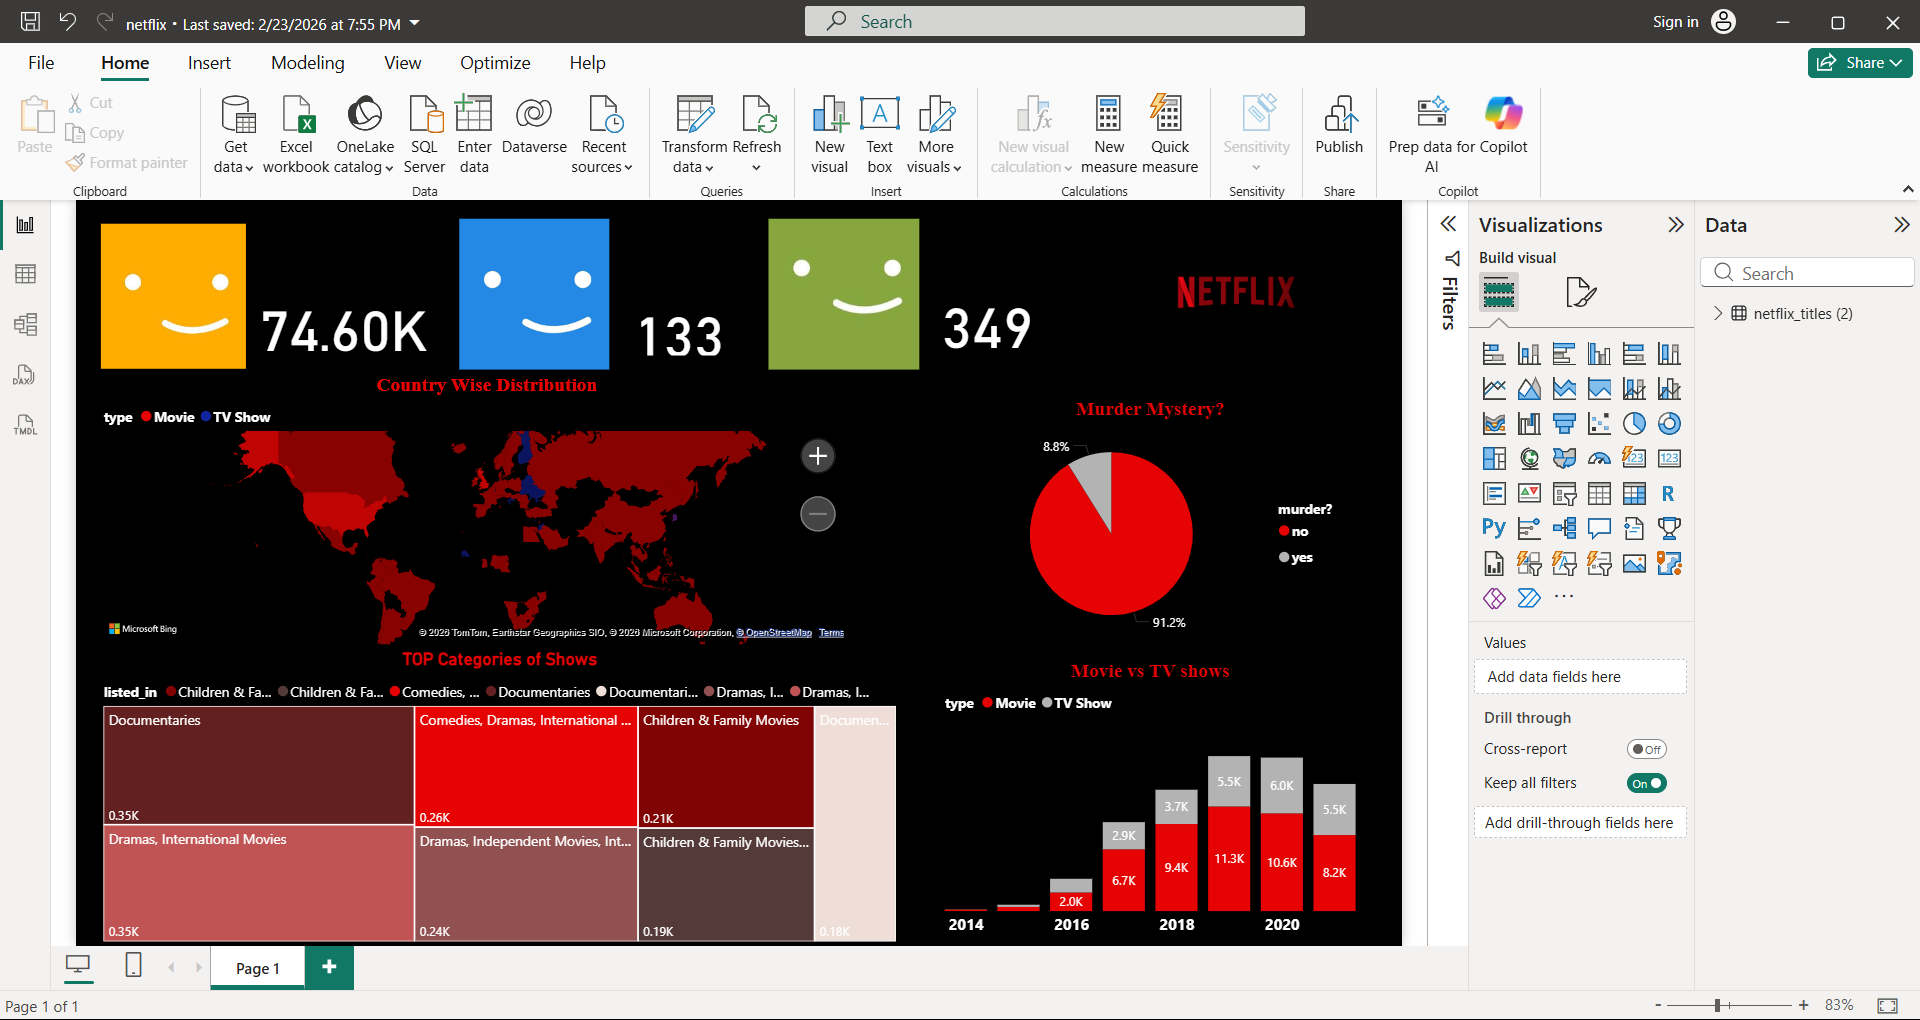

The dashboard page shown, as its layout file describes it:
{"tool":"powerbi","page":{"name":"Page 1","canvas":[1280,720],"ordinal":0},"visuals":[{"type":"columnChart","title":"Movie vs TV shows","fields":{"Y":["CountNonNull(netflix_titles (2).show_id)"],"Series":["netflix_titles (2).type"],"Category":["netflix_titles (2).date_added.Variation.Date Hierarchy.Year"]},"box":[833.7,444,406.6,276.3],"z":0},{"type":"pieChart","title":"Murder Mystery?","fields":{"Category":["netflix_titles (2).murder?"],"Y":["CountNonNull(netflix_titles (2).type)"]},"box":[833.7,190.6,406.6,242.5],"z":1000},{"type":"filledMap","title":"Country Wise Distribution","fields":{"Category":["netflix_titles (2).country"],"Series":["netflix_titles (2).type"]},"box":[21.7,167.7,749.2,265.4],"z":2000},{"type":"treemap","title":"TOP Categories of Shows","fields":{"Values":["Count(netflix_titles (2).show_id)"],"Details":["netflix_titles (2).listed_in"]},"box":[22.2,433.2,774.8,287.4],"z":3000},{"type":"card","fields":{"Values":["CountNonNull(netflix_titles (2).type)"]},"box":[525,96.7,115,58.3],"z":4000},{"type":"card","fields":{"Values":["CountNonNull(netflix_titles (2).type)"]},"box":[821.7,80,116.7,75],"z":5000},{"type":"image","box":[0,18.3,188.3,150],"z":6000},{"type":"image","box":[360,13.3,165,155],"z":7000},{"type":"image","box":[661.7,13.3,160,155],"z":8000},{"type":"image","box":[938.6,0,341.4,178.6],"z":9000},{"type":"card","fields":{"Values":["CountNonNull(netflix_titles (2).type)"]},"box":[168.3,71.7,178.3,96.7],"z":10000}]}

Visuals, with their boxes on the page's 1280x720 design canvas (x1, y1, x2, y2). These are canvas units, not pixel positions in the 1920x1020 screenshot, which may show the page scaled, cropped or inside an application window:
"Movie vs TV shows" columnChart: {"x1": 834, "y1": 444, "x2": 1240, "y2": 720}
"Murder Mystery?" pieChart: {"x1": 834, "y1": 191, "x2": 1240, "y2": 433}
"Country Wise Distribution" filledMap: {"x1": 22, "y1": 168, "x2": 771, "y2": 433}
"TOP Categories of Shows" treemap: {"x1": 22, "y1": 433, "x2": 797, "y2": 721}
card - CountNonNull(netflix_titles (2).type): {"x1": 525, "y1": 97, "x2": 640, "y2": 155}
card - CountNonNull(netflix_titles (2).type): {"x1": 822, "y1": 80, "x2": 938, "y2": 155}
image: {"x1": 0, "y1": 18, "x2": 188, "y2": 168}
image: {"x1": 360, "y1": 13, "x2": 525, "y2": 168}
image: {"x1": 662, "y1": 13, "x2": 822, "y2": 168}
image: {"x1": 939, "y1": 0, "x2": 1280, "y2": 179}
card - CountNonNull(netflix_titles (2).type): {"x1": 168, "y1": 72, "x2": 347, "y2": 168}
